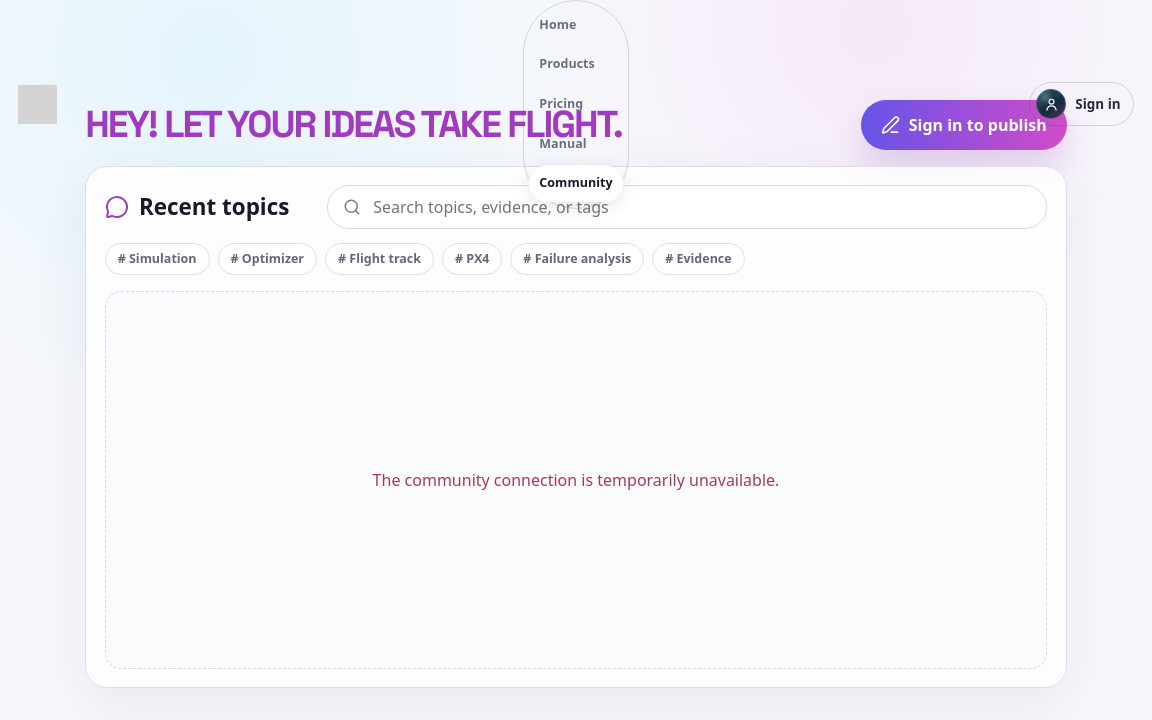
DroneDream public website › requires an account before a visitor can publish a community topic
Expected: the heading "Hey! Let Your Ideas Take Flight." is shown, [85, 100, 622, 148]
Expected: the heading "Recent topics" is shown, [139, 193, 289, 221]
Click the button "Sign in to publish" at (964, 125), box [861, 100, 1067, 150]
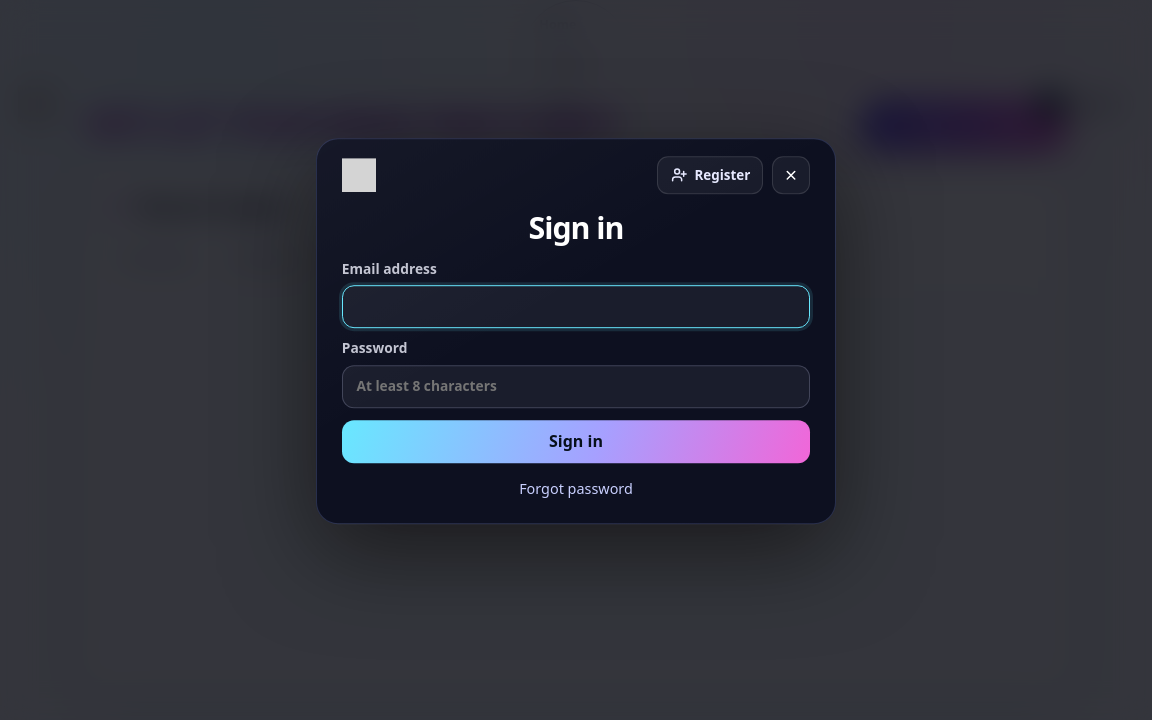
Now the dialog "Sign in" is shown, box [316, 138, 836, 525]
